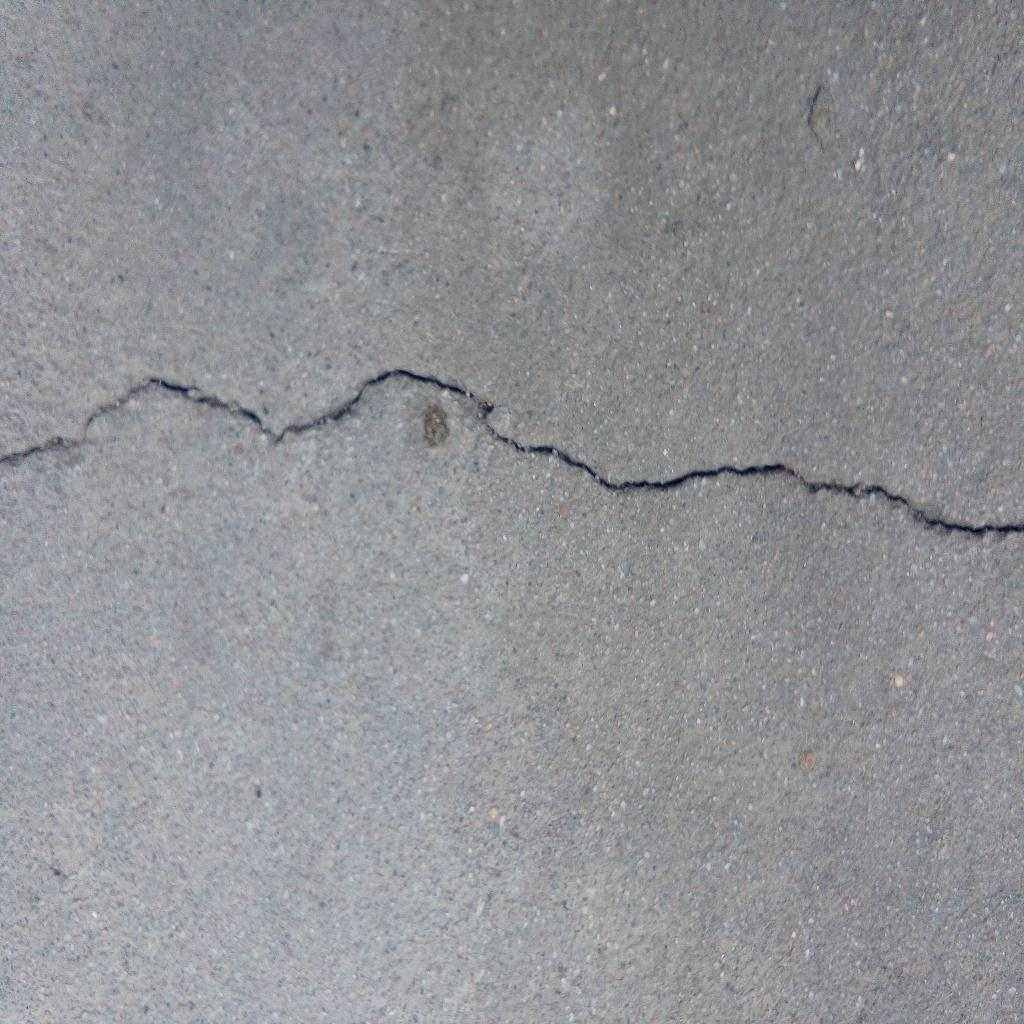Crack: (1, 369, 1024, 539)
